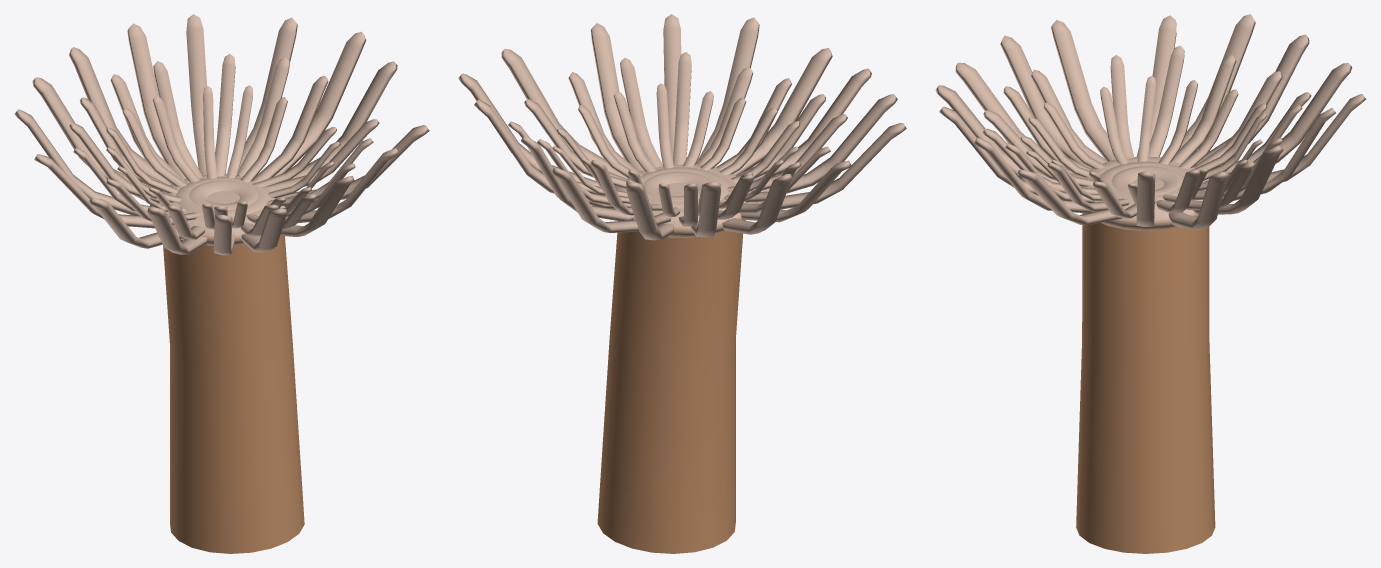
Rendered from Trashkorall.fbx.
The picture shows the model from 3 angles, left to right: view 1: azimuth 30°, elevation 25°; view 2: azimuth 150°, elevation 25°; view 3: azimuth 270°, elevation 25°; orthographic projection. The views are drawn at different scales.
Visible parts, largest first — view 1: pCube20; view 2: pCube20; view 3: pCube20.
Boxes of the visible parts, left/top/right/bottom form: pCube20: left=14, top=14, right=429, bottom=553; pCube20: left=458, top=14, right=906, bottom=553; pCube20: left=935, top=14, right=1366, bottom=553.
Size of the model in its own units: 3.05 by 3.56 by 3.12.
